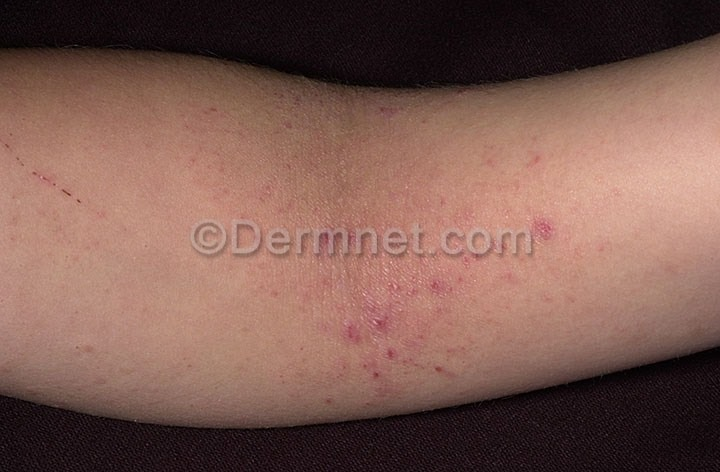Eczema: (78, 60, 720, 403)
